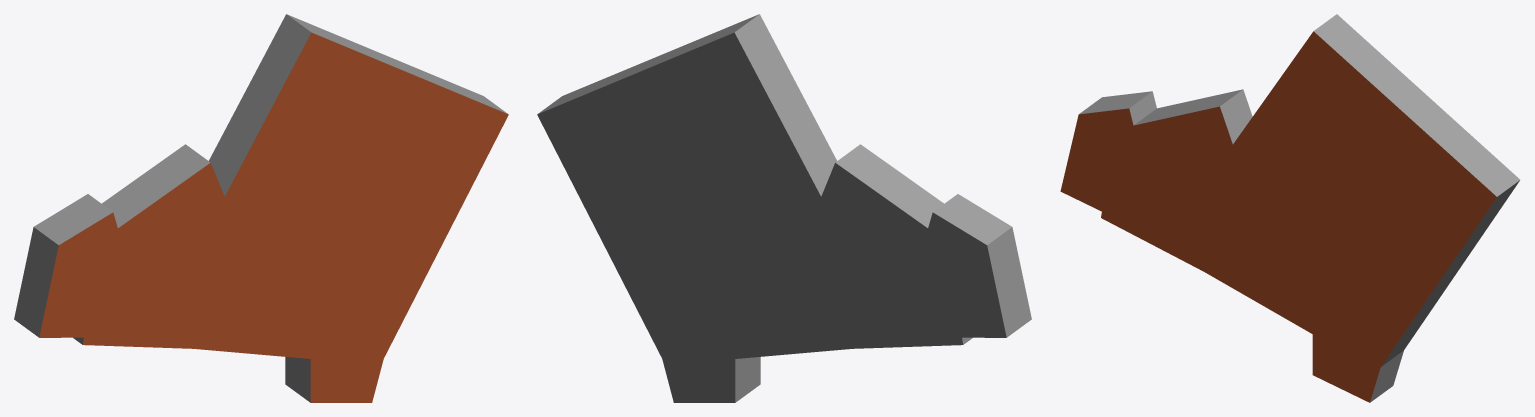
Rendered from construction_4083_assumed_A_Casa_h6m.obj.
The picture shows the model from 3 angles, left to right: view 1: azimuth 30°, elevation 25°; view 2: azimuth 150°, elevation 25°; view 3: azimuth 330°, elevation 25°; orthographic projection. The views are drawn at different scales.
Visible parts, largest first — view 1: construction_4083_assumed_A_Casa; view 2: construction_4083_assumed_A_Casa; view 3: construction_4083_assumed_A_Casa.
Boxes of the visible parts, box(x1,y1,x2,y2) form: construction_4083_assumed_A_Casa: box(14, 14, 508, 402); construction_4083_assumed_A_Casa: box(537, 14, 1031, 402); construction_4083_assumed_A_Casa: box(1060, 14, 1519, 402).
Bounding box in the file's own units: 64.47 × 50.53 × 6.
